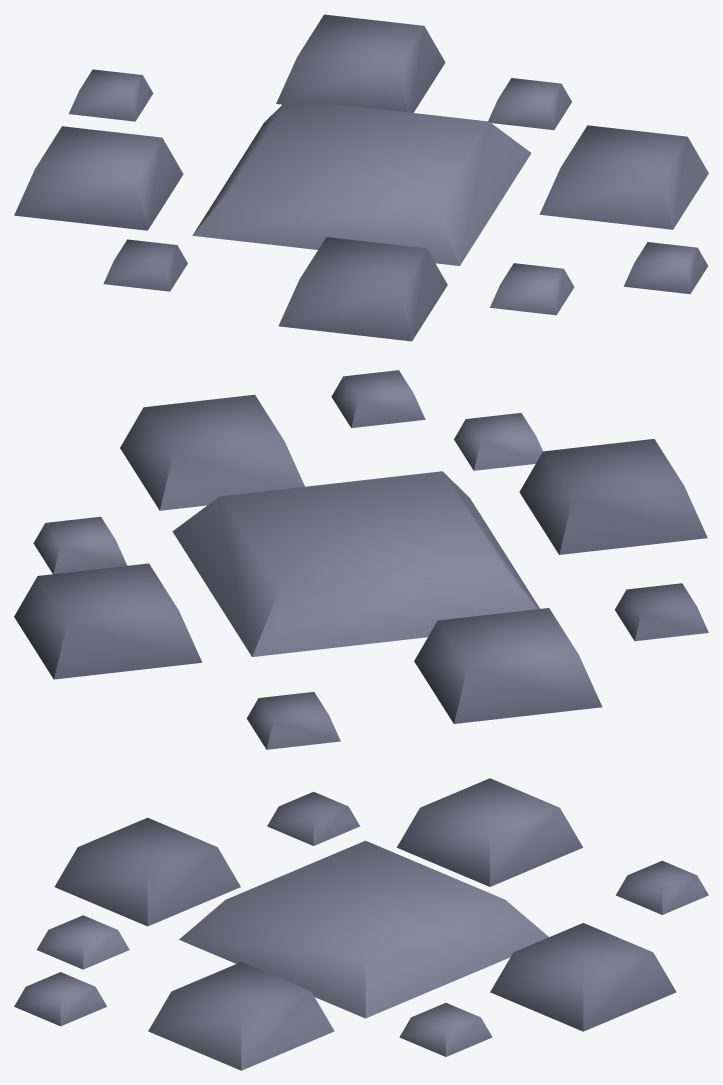
Rendered from stones.glb.
3 renders of one model, top to bottom at view 1: azimuth 30°, elevation 25°; view 2: azimuth 150°, elevation 25°; view 3: azimuth 270°, elevation 25°, orthographic. The views are drawn at different scales.
Parts seen in each view (by area): view 1: stones; view 2: stones; view 3: stones.
Boxes of the visible parts, x1=… form: stones: x1=14, y1=14, x2=708, y2=341; stones: x1=14, y1=370, x2=708, y2=749; stones: x1=14, y1=778, x2=708, y2=1070.
Bounding box in the file's own units: 0.7102 × 0.05 × 0.7897.
